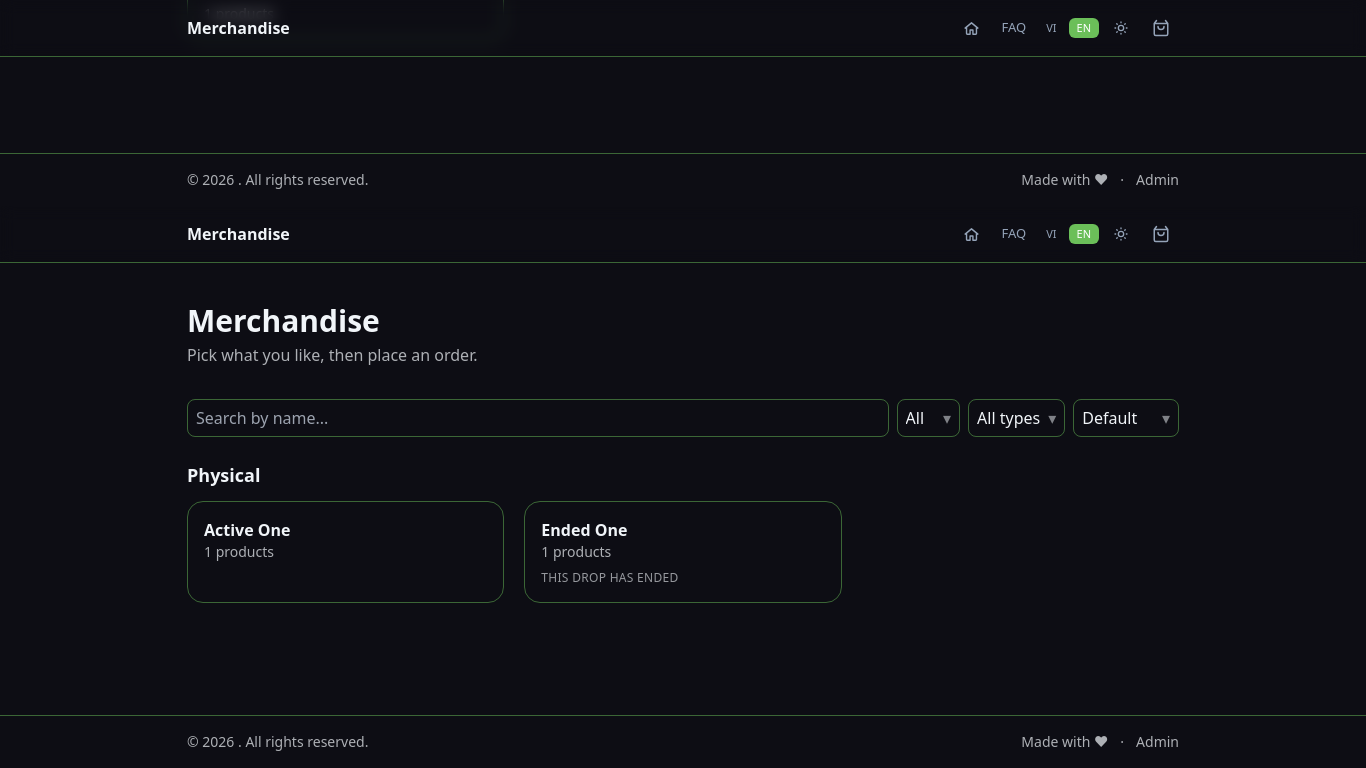
Test: Shop - search, filter, sort › filters by status
(page scrolled)
// Find the status filter trigger by its aria-label (the placeholder text "All")
Click the button with aria-label "All": (928, 418) [897,399,960,437]
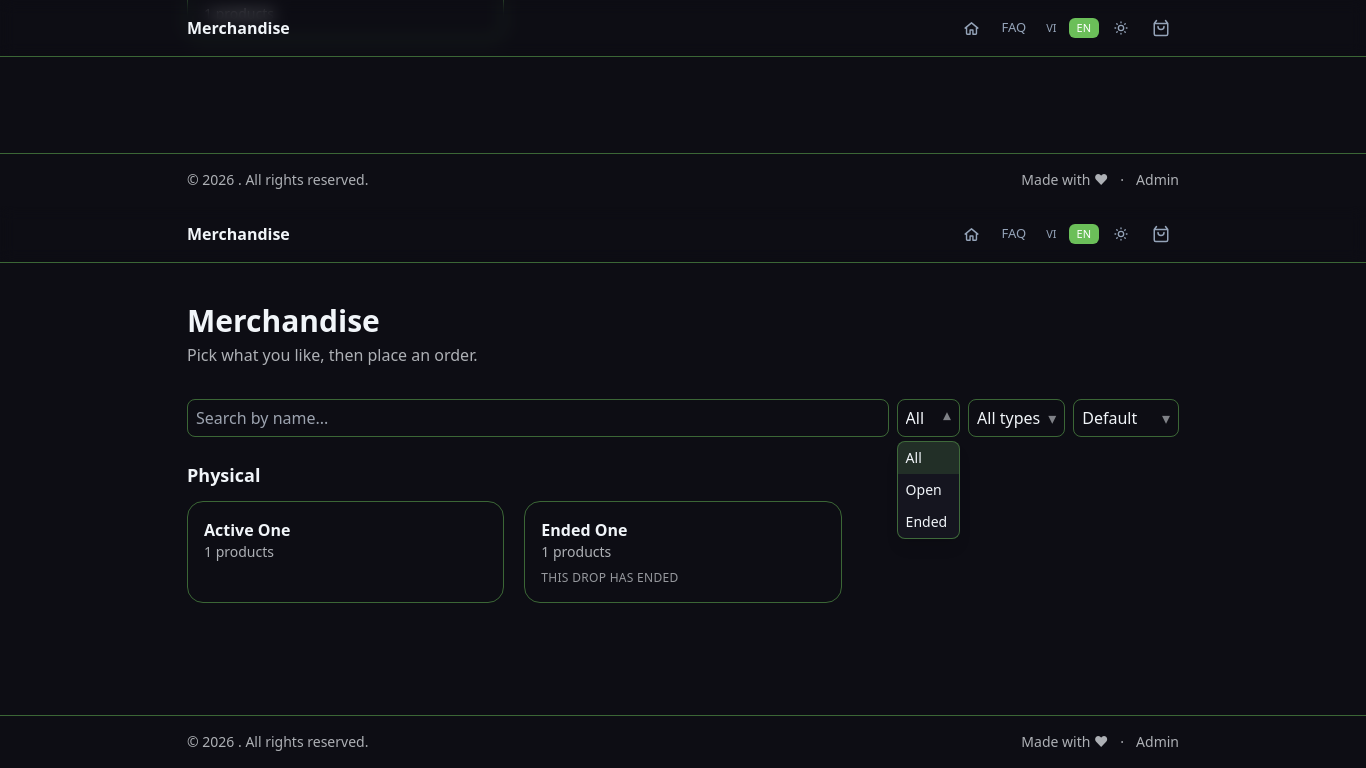
Click the button "Open": (928, 490) [898,474,959,506]
(page scrolled)
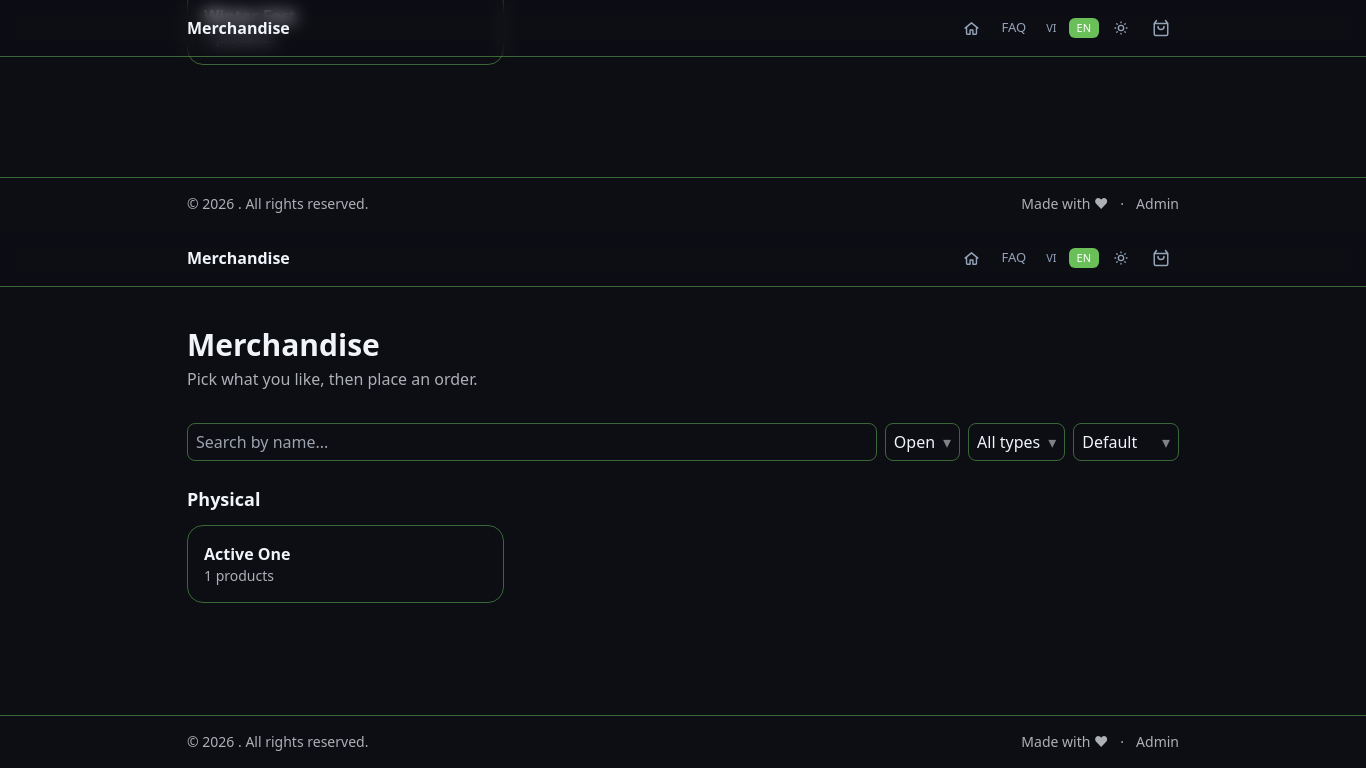
Check: the text "Active One" is shown, box [204,542,290,566]
Check: the text "Ended One" is gone
